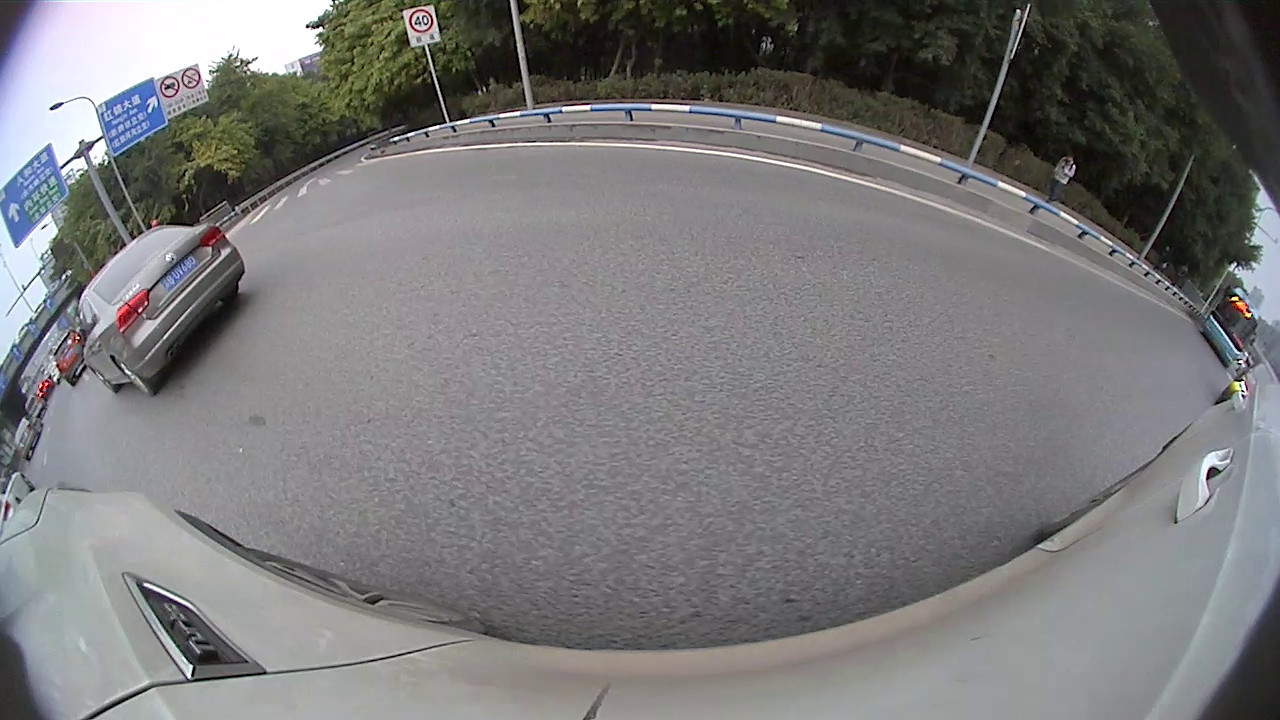bus: (1202, 287, 1261, 365)
car: (77, 223, 245, 398), (1208, 360, 1278, 410), (53, 327, 95, 387), (0, 468, 36, 533), (11, 415, 43, 462), (22, 394, 42, 420)
front: (88, 361, 120, 395)
person: (1058, 147, 1073, 208)
rear: (113, 353, 160, 398), (218, 283, 240, 305)
